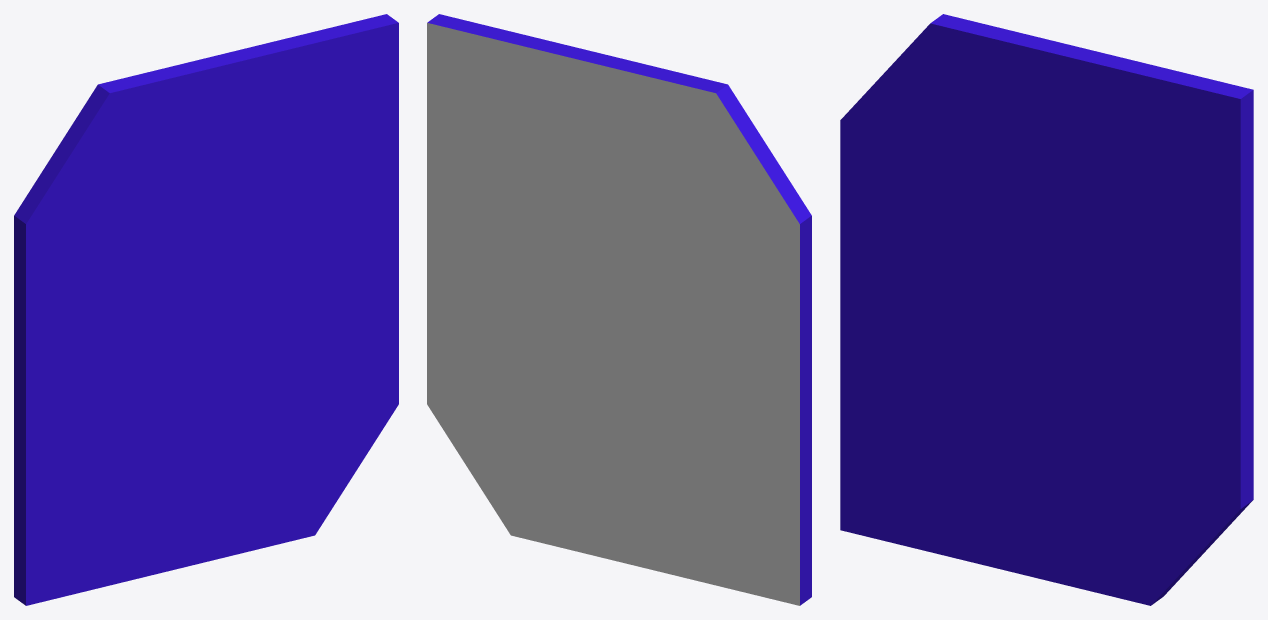
Rendered from Card.fbx.
3 renders of one model, left to right at view 1: azimuth 30°, elevation 25°; view 2: azimuth 150°, elevation 25°; view 3: azimuth 330°, elevation 25°, orthographic. The views are drawn at different scales.
Parts seen in each view (by area): view 1: Card; view 2: Card; view 3: Card.
Part boxes in pixels (x1,y1,x2,y2): Card: [14, 14, 398, 605]; Card: [427, 14, 811, 605]; Card: [840, 14, 1253, 605].
Size of the model in its own units: 27.93 by 35.25 by 1.56.
